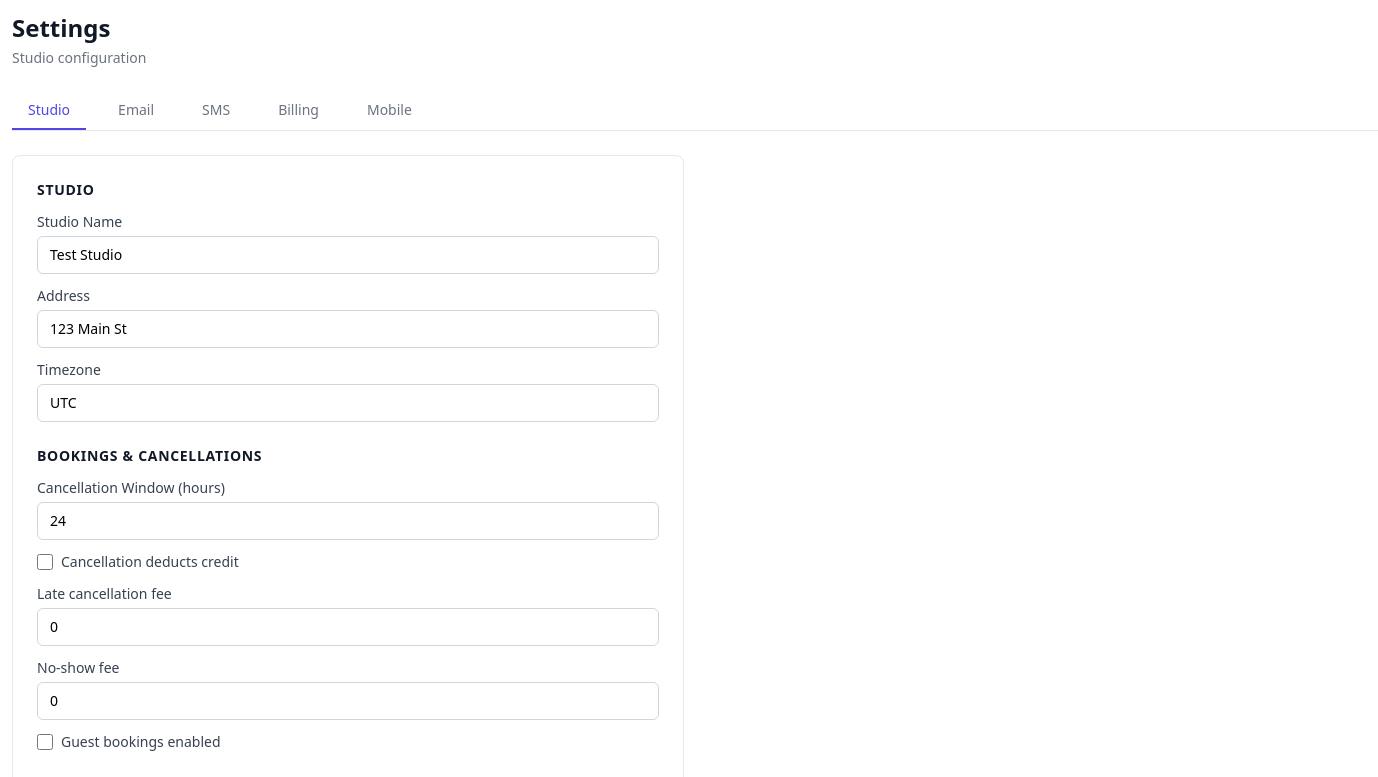
SettingsPage › Email tab is accessible and shows SMTP fields when clicked
Click the tab "Email" at (136, 111), box left=102, top=92, right=170, bottom=130
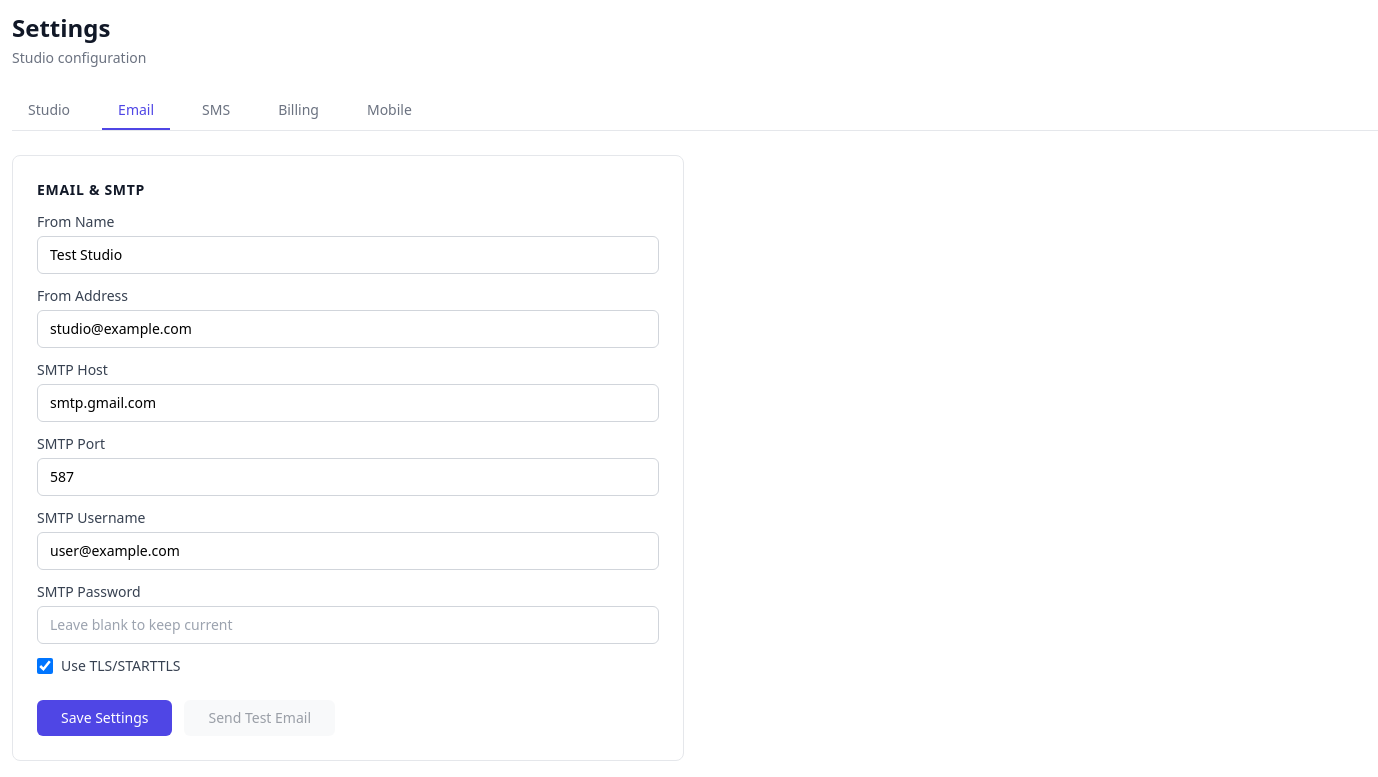
Result: the text "SMTP Host" is shown at left=37, top=360, right=108, bottom=379
Result: the text "SMTP Port" is shown at left=37, top=434, right=105, bottom=453
